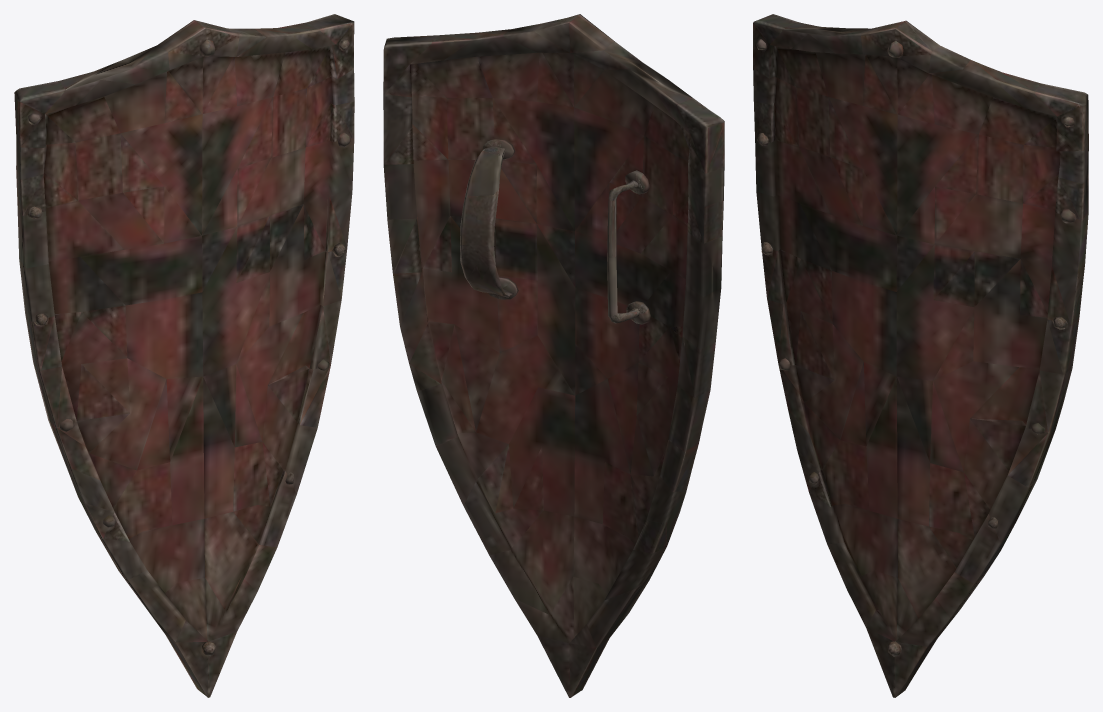
File: skeleton_shield_large_a.glb
The picture shows the model from 3 angles, left to right: view 1: azimuth 30°, elevation 25°; view 2: azimuth 150°, elevation 25°; view 3: azimuth 330°, elevation 25°; orthographic projection.
Parts seen in each view (by area): view 1: skeleton_shield_large_a; view 2: skeleton_shield_large_a; view 3: skeleton_shield_large_a.
Part boxes in pixels (x1,y1,x2,y2): skeleton_shield_large_a: (14, 14, 354, 697); skeleton_shield_large_a: (383, 14, 724, 697); skeleton_shield_large_a: (753, 14, 1088, 697).
Bounding box in the file's own units: 0.5946 × 1.13 × 0.1481.
1 material, 1 textured.
